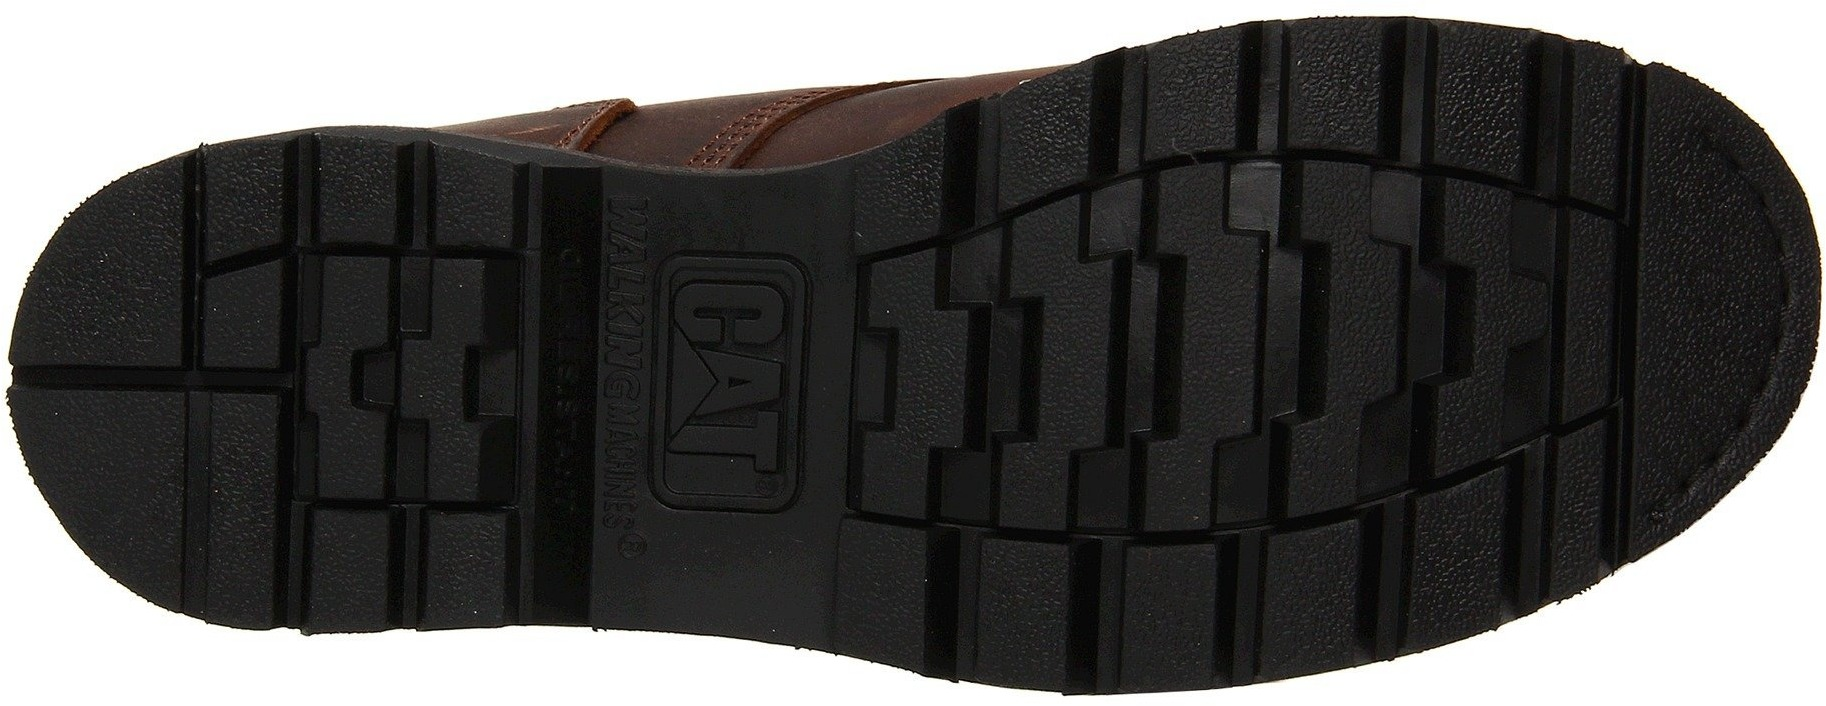quad: (63, 243, 317, 538), (855, 424, 1076, 661), (1158, 30, 1369, 250), (1133, 435, 1339, 650), (1422, 362, 1625, 548)
text: (668, 380, 797, 514), (679, 278, 799, 379)
